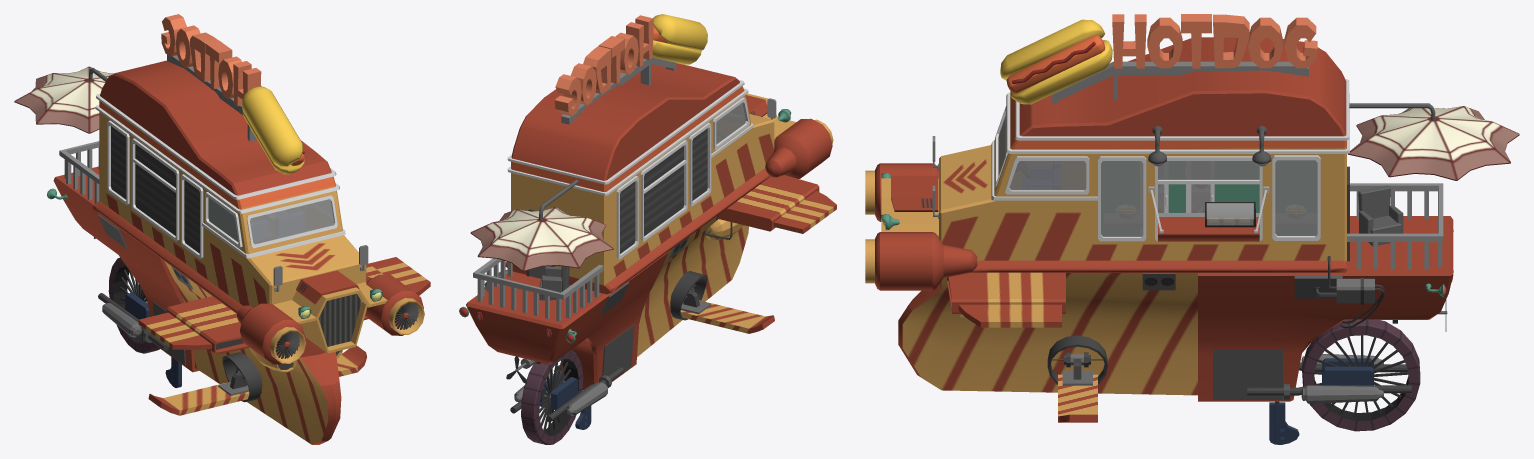
File: HotDog_Truck.FBX
3 renders of one model, left to right at view 1: azimuth 30°, elevation 25°; view 2: azimuth 150°, elevation 25°; view 3: azimuth 270°, elevation 25°, orthographic. The views are drawn at different scales.
Visible parts, largest first — view 1: HotDog_truck, glasses; view 2: HotDog_truck, glasses; view 3: HotDog_truck, glasses.
Part boxes in pixels (x1,y1,x2,y2): HotDog_truck: (14,14,430,444); glasses: (208,197,334,244); HotDog_truck: (459,14,836,444); glasses: (716,103,745,144); HotDog_truck: (865,14,1519,444); glasses: (998,116,1317,236).
Size of the model in its own units: 4.06 by 5.47 by 7.53.
2 materials, 1 textured.
